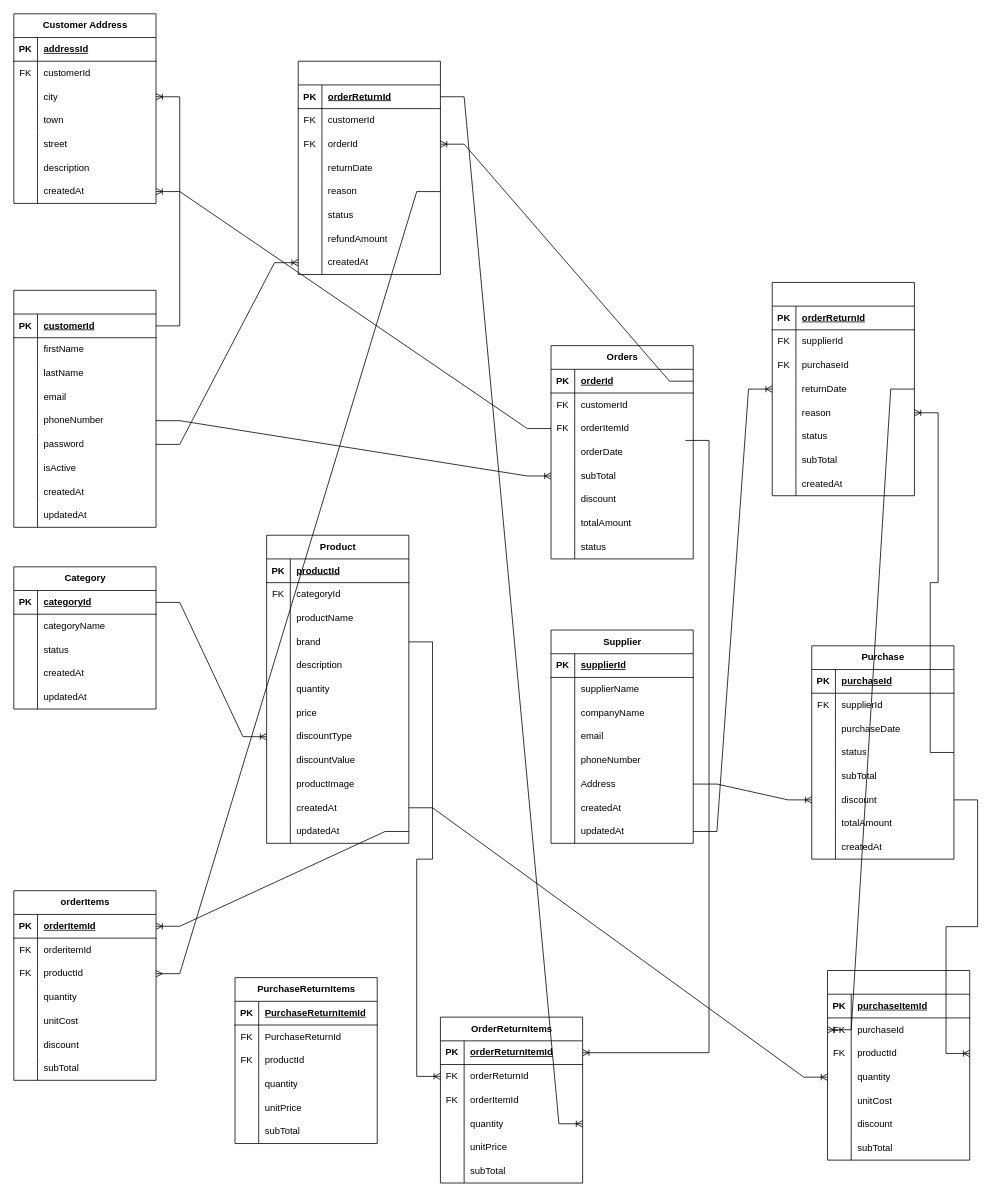
Some shapes in this 998 by 1197 pixel diagram are drawn without their labels. The shapes that lost their labels are listed below. From the top down, each one's box as (x1, y1, x2, y2) in pixels, then its label:
(297, 60, 440, 275): orderReturns
(13, 290, 156, 527): Customers
(771, 282, 914, 496): PurchaseReturns
(827, 970, 970, 1160): purchaseItems
